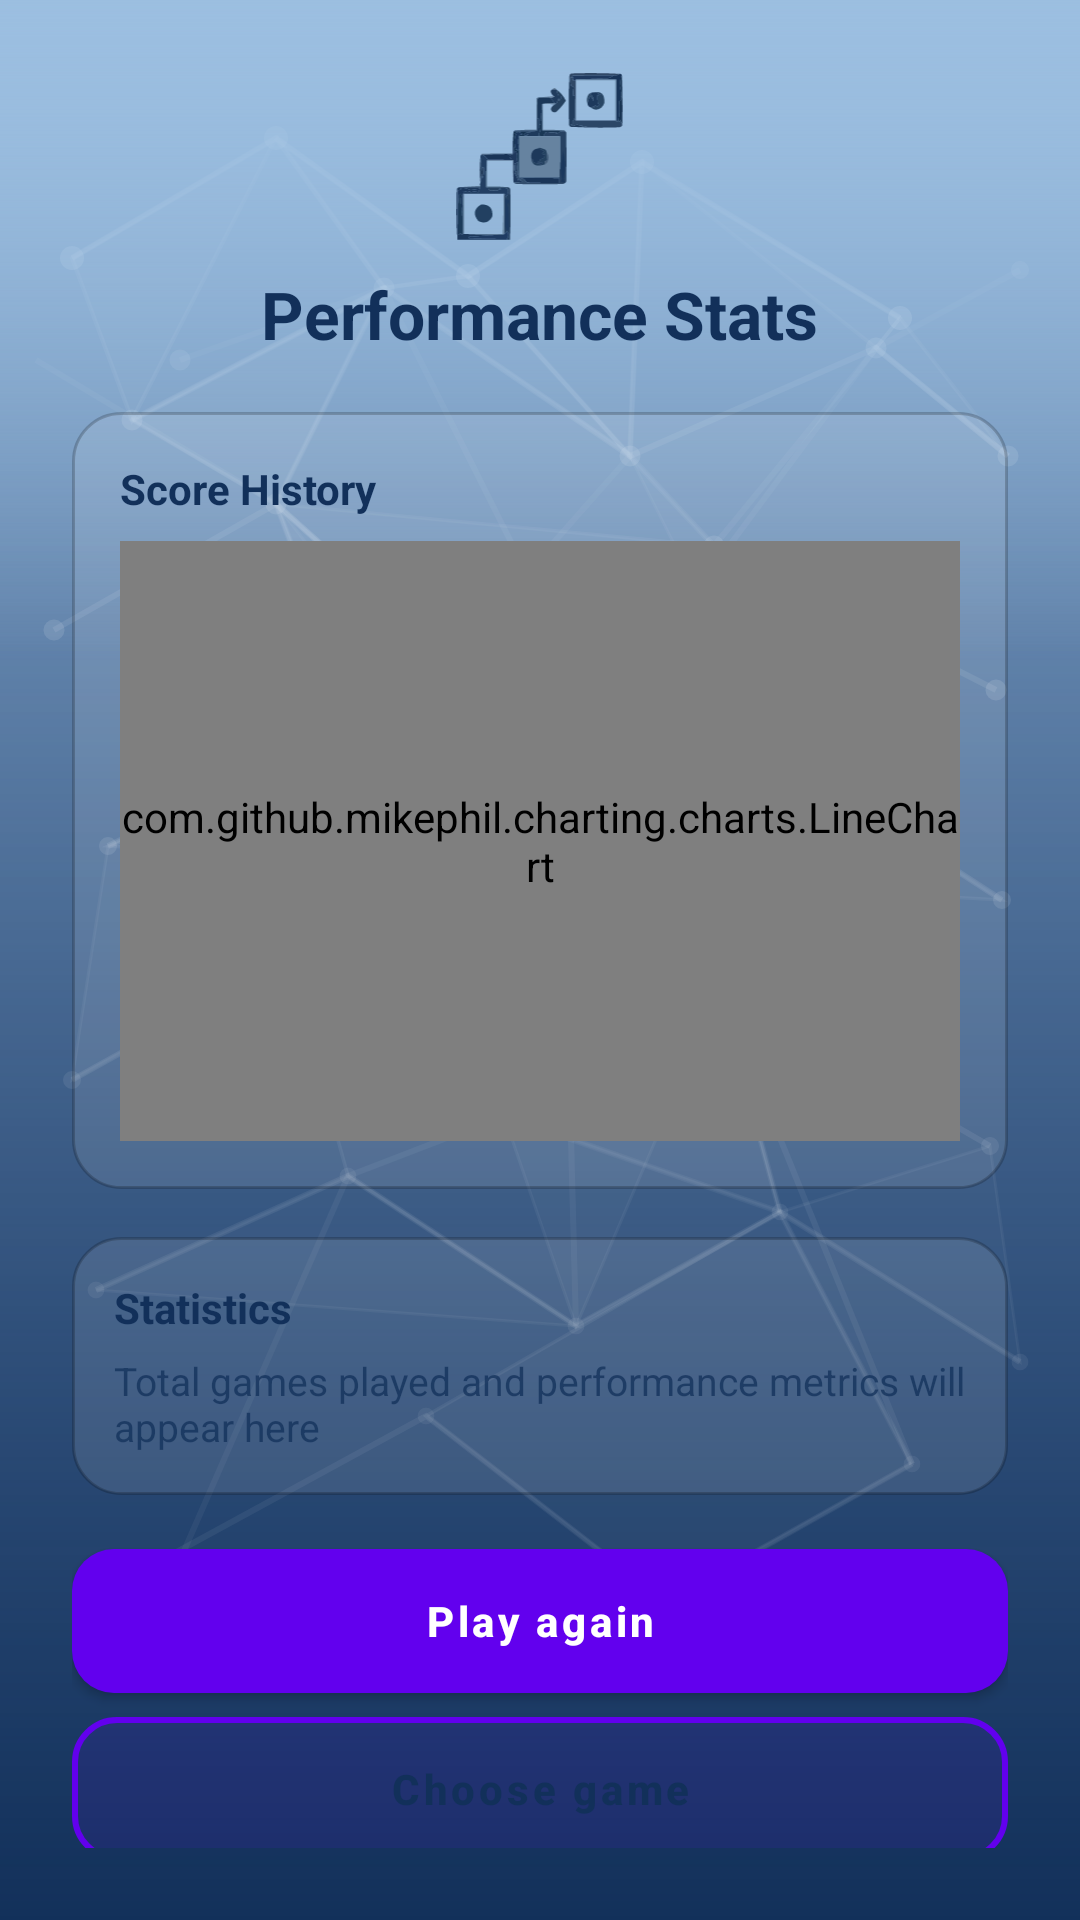

Screen size 1080 × 1920. Icon name, then its box in pixels as {"left": x1, "top": y1, "right": x2, "bottom": y2}:
Game Icon: {"left": 456, "top": 73, "right": 623, "bottom": 240}
